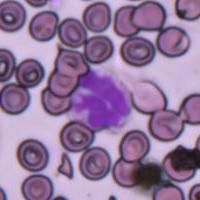N: (68, 67, 132, 132)
